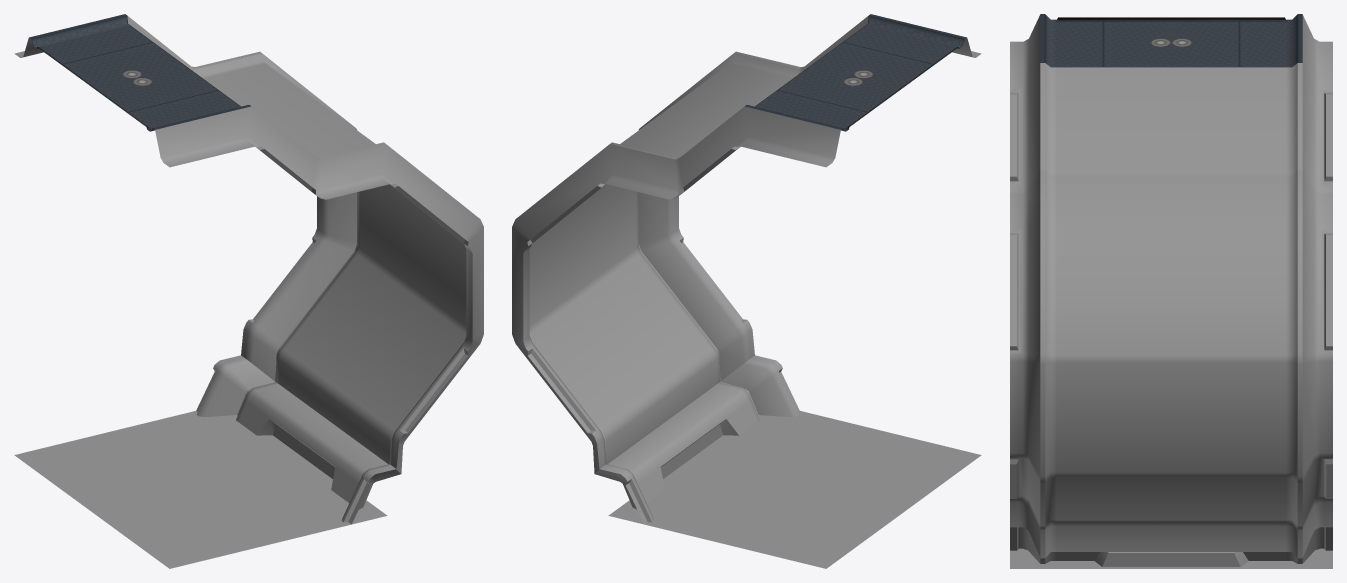
Rendered from Corr_A_2m.fbx.
The picture shows the model from 3 angles, left to right: view 1: azimuth 30°, elevation 25°; view 2: azimuth 150°, elevation 25°; view 3: azimuth 270°, elevation 25°; orthographic projection. The views are drawn at different scales.
Parts seen in each view (by area): view 1: Corr_A_2m; view 2: Corr_A_2m; view 3: Corr_A_2m.
Boxes of the visible parts, <box> form: Corr_A_2m: <box>14,14,483,568</box>; Corr_A_2m: <box>512,14,981,568</box>; Corr_A_2m: <box>1010,14,1332,568</box>.
Bounding box in the file's own units: 244 × 304 × 200.
Materials: 5 (1 with a texture image).
